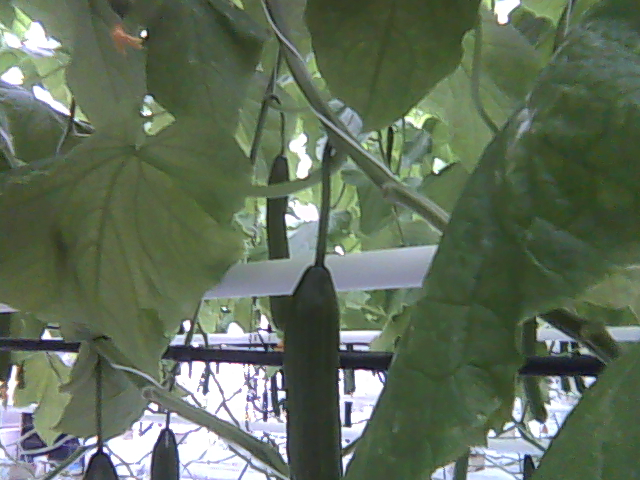concombre: (279, 258, 347, 480)
